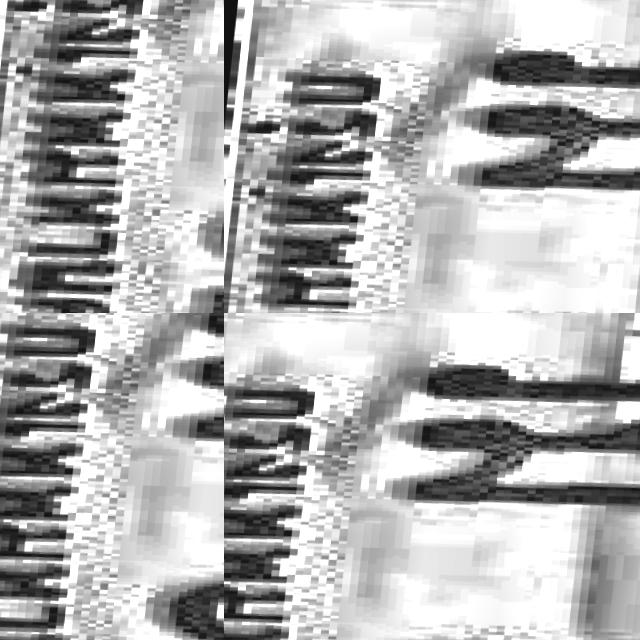license-plate: (224, 313, 640, 640), (0, 313, 224, 611), (118, 0, 224, 183)
